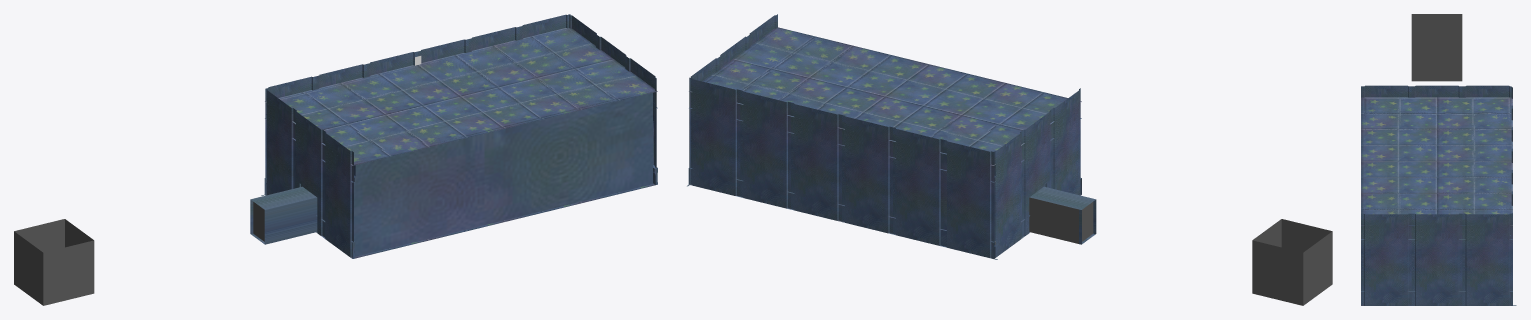
Rendered from las_14_bake.dae.
3 renders of one model, left to right at view 1: azimuth 30°, elevation 25°; view 2: azimuth 150°, elevation 25°; view 3: azimuth 270°, elevation 25°, orthographic. The views are drawn at different scales.
Visible parts, largest first — view 1: pCube4_q00011, pCube1_q00009, pCube1_q00214, polySurface204_q00000, pCube3_q00038, pCube3_q00037, pCube3_q00036, pCube3_q00005, pCube3_q00182, pCube1_q00215, pCube3_q00184, pCube3_q00185 (+5 smaller); view 2: pCube1_q00214, pCube1_q00009, pCube3_q00185, pCube3_q00182, pCube3_q00186, pCube3_q00183, pCube3_q00181, pCube3_q00184, polySurface204_q00000, pCube3_q00038, pCube3_q00036, pCube3_q00037 (+4 smaller); view 3: pCube1_q00214, pCube1_q00009, pCube3_q00208, pCube3_q00209, pCube3_q00207, e_bero_1, polySurface204_q00000, pCube3_q00038, pCube3_q00037, pCube3_q00036.
Boxes of the visible parts, x1,y1,x2,y2 form: pCube4_q00011: [354, 93, 652, 256]; pCube1_q00009: [280, 29, 648, 162]; pCube1_q00214: [265, 28, 657, 165]; polySurface204_q00000: [14, 219, 94, 305]; pCube3_q00038: [250, 109, 324, 244]; pCube3_q00037: [324, 131, 353, 257]; pCube3_q00036: [266, 89, 294, 195]; pCube3_q00005: [250, 191, 316, 243]; pCube3_q00182: [261, 76, 315, 195]; pCube1_q00215: [351, 183, 655, 258]; pCube3_q00184: [468, 26, 519, 52]; pCube3_q00185: [519, 14, 570, 39]; pCube1_q00214: [689, 27, 1081, 165]; pCube1_q00009: [706, 29, 1053, 146]; pCube3_q00185: [689, 77, 741, 197]; pCube3_q00182: [943, 140, 997, 259]; pCube3_q00186: [893, 127, 946, 247]; pCube3_q00183: [791, 102, 841, 221]; pCube3_q00181: [842, 115, 892, 233]; pCube3_q00184: [740, 90, 790, 208]; polySurface204_q00000: [1252, 219, 1332, 305]; pCube3_q00038: [1022, 110, 1096, 244]; pCube3_q00036: [993, 131, 1023, 257]; pCube3_q00037: [1051, 88, 1080, 195]; pCube1_q00214: [1361, 97, 1512, 225]; pCube1_q00009: [1364, 98, 1509, 214]; pCube3_q00208: [1411, 213, 1462, 305]; pCube3_q00209: [1361, 213, 1411, 305]; pCube3_q00207: [1462, 213, 1516, 305]; e_bero_1: [1411, 35, 1462, 81]; polySurface204_q00000: [1411, 14, 1462, 35]; pCube3_q00038: [1411, 85, 1462, 97]; pCube3_q00037: [1361, 85, 1411, 97]; pCube3_q00036: [1462, 85, 1511, 97].
Size of the model in its own units: 115 by 20 by 30.75.
